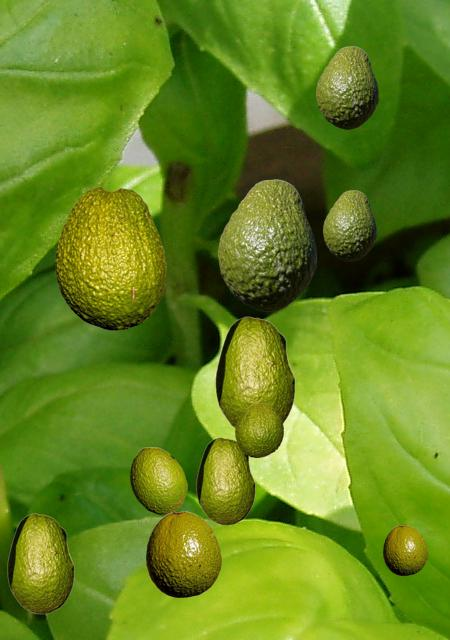avocado: (55, 186, 165, 329), (218, 179, 315, 310), (215, 316, 294, 428), (7, 513, 73, 613), (146, 511, 220, 596), (196, 437, 254, 524), (316, 46, 377, 128), (130, 447, 186, 513), (323, 190, 375, 260), (235, 403, 282, 456), (383, 525, 426, 574)
